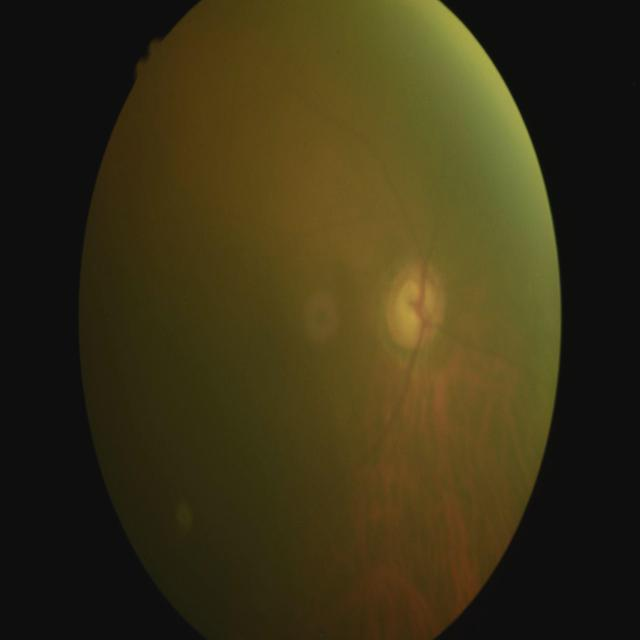cup: (392, 278, 438, 338)
disk: (386, 260, 448, 352)
